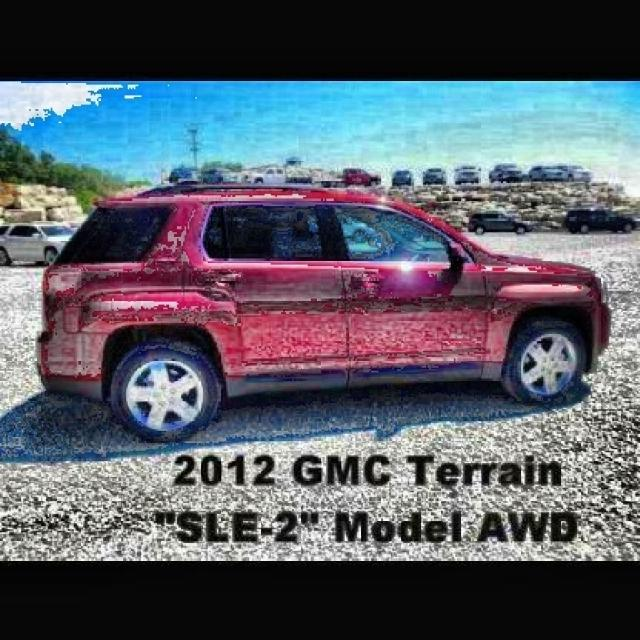maroon: (32, 167, 594, 433)
